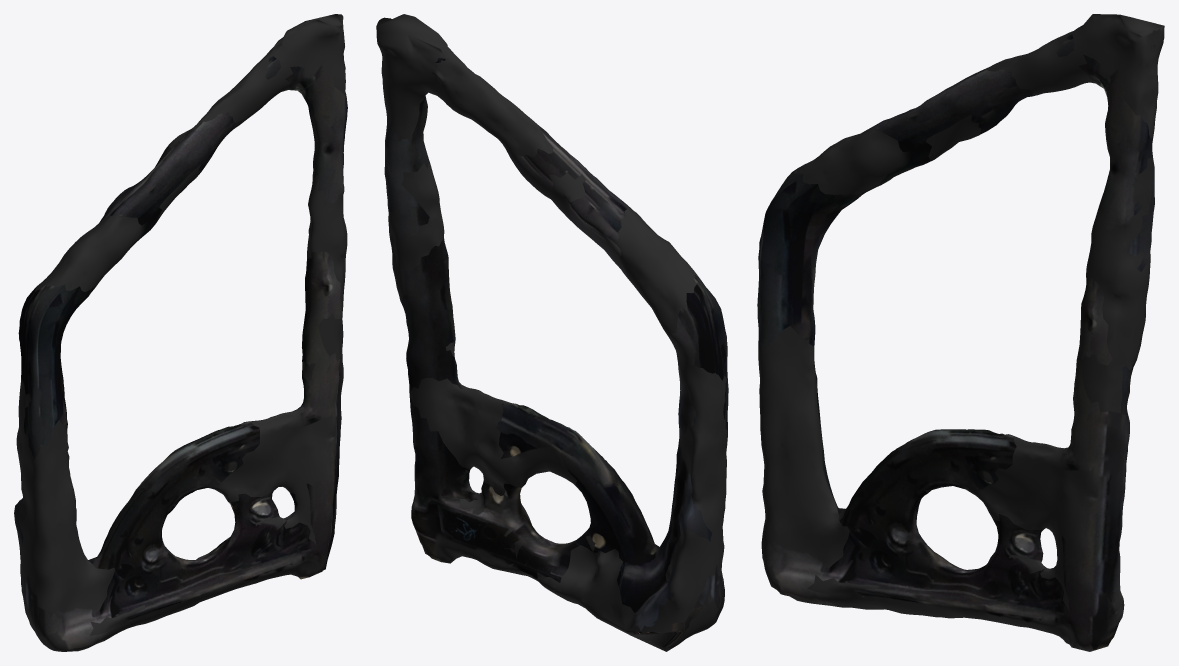
The model's file is encaixe.fbx.
3 views of the same model, side by side, from view 1: azimuth 30°, elevation 25°; view 2: azimuth 150°, elevation 25°; view 3: azimuth 330°, elevation 25° (orthographic). The views are drawn at different scales.
Parts seen in each view (by area): view 1: Mesh; view 2: Mesh; view 3: Mesh.
Part boxes in pixels (x1,y1,x2,y2): Mesh: (14, 14, 347, 651); Mesh: (376, 14, 728, 651); Mesh: (757, 14, 1164, 651).
Size of the model in its own units: 26.16 by 42.32 by 5.69.
1 material, 1 textured.
